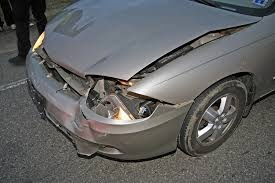Broken-glass: (93, 82, 155, 123)
Smashed: (52, 47, 184, 154)
